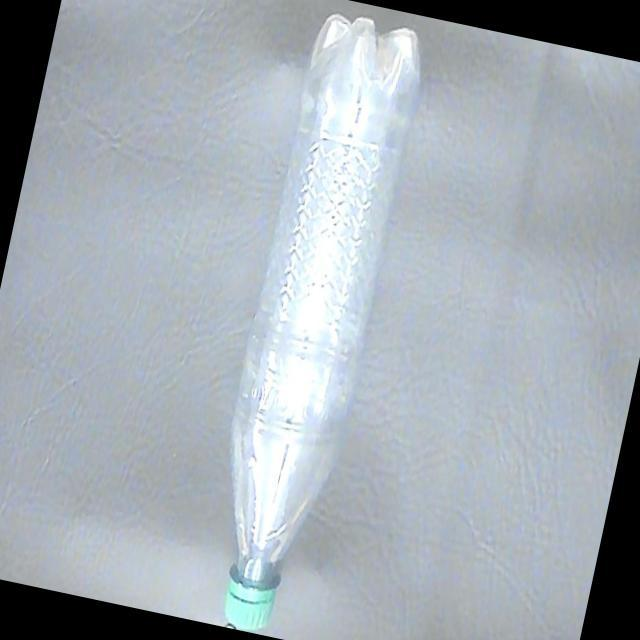good: (184, 2, 436, 638)
